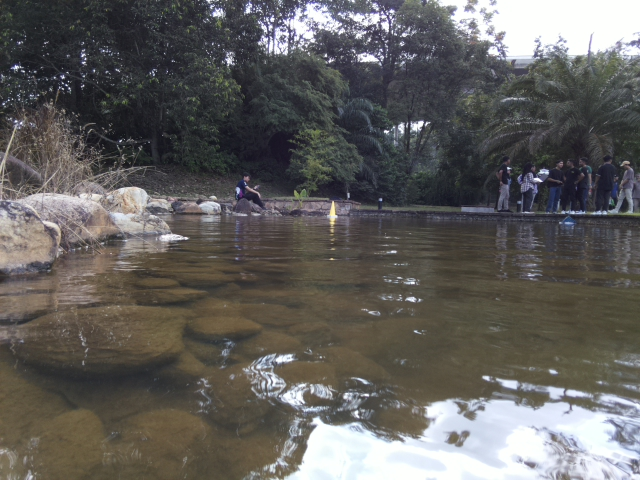checkpoint: (326, 200, 340, 218)
